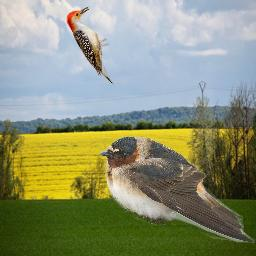Swallow: (99, 136, 255, 243)
Woodpecker: (66, 6, 114, 86)
